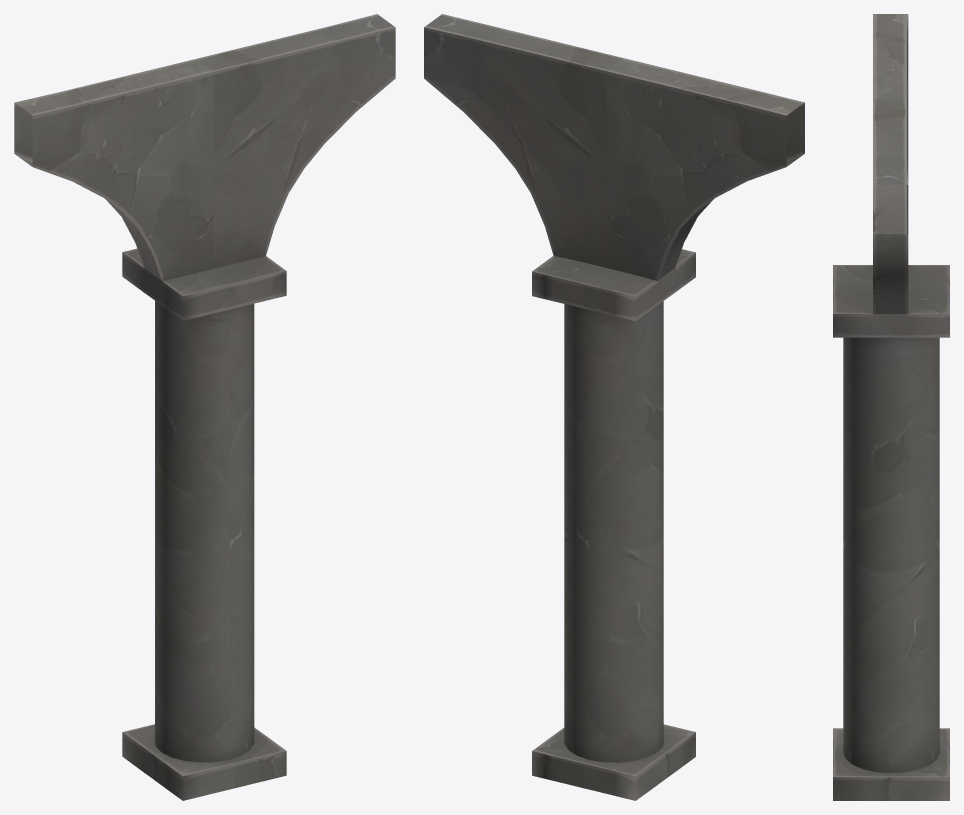
The model's file is Middle_ArchPillar.fbx.
The picture shows the model from 3 angles, left to right: view 1: azimuth 30°, elevation 25°; view 2: azimuth 150°, elevation 25°; view 3: azimuth 270°, elevation 25°; orthographic projection. The views are drawn at different scales.
Parts seen in each view (by area): view 1: polySurface9; view 2: polySurface9; view 3: polySurface9.
Boxes of the visible parts, x1,y1,x2,y2 form: polySurface9: (14, 14, 395, 800); polySurface9: (424, 14, 804, 800); polySurface9: (833, 14, 949, 800).
Bounding box in the file's own units: 6.92 × 12.79 × 2.
1 material, 1 textured.
